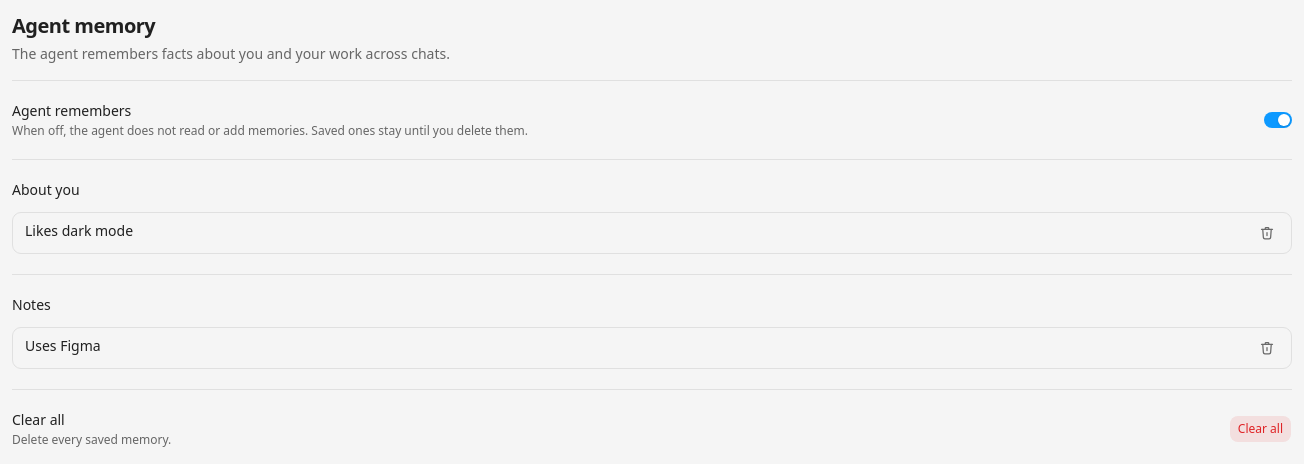
Test: MemorySection › lists entries and removes one optimistically
Check: the text "Likes dark mode" is shown, box [25,221,133,241]
Click the button named "Delete memory: Likes dark mode".
click(1267, 233)  # box [1255,221,1279,245]
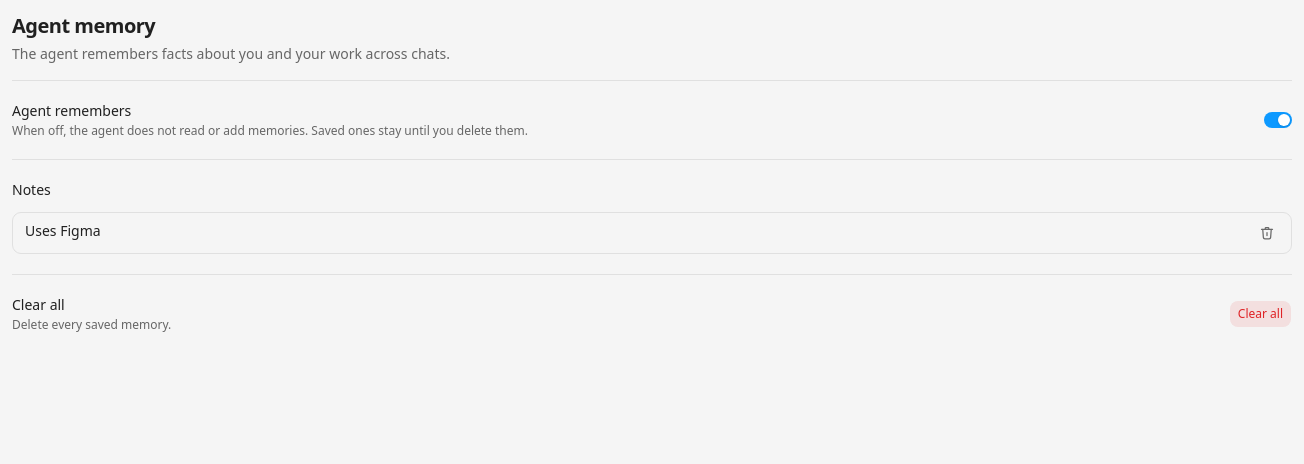
Check: the text "Likes dark mode" is gone
